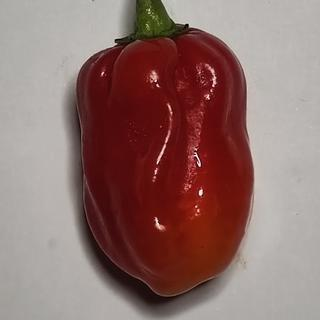Grade-A: (61, 15, 259, 301)
